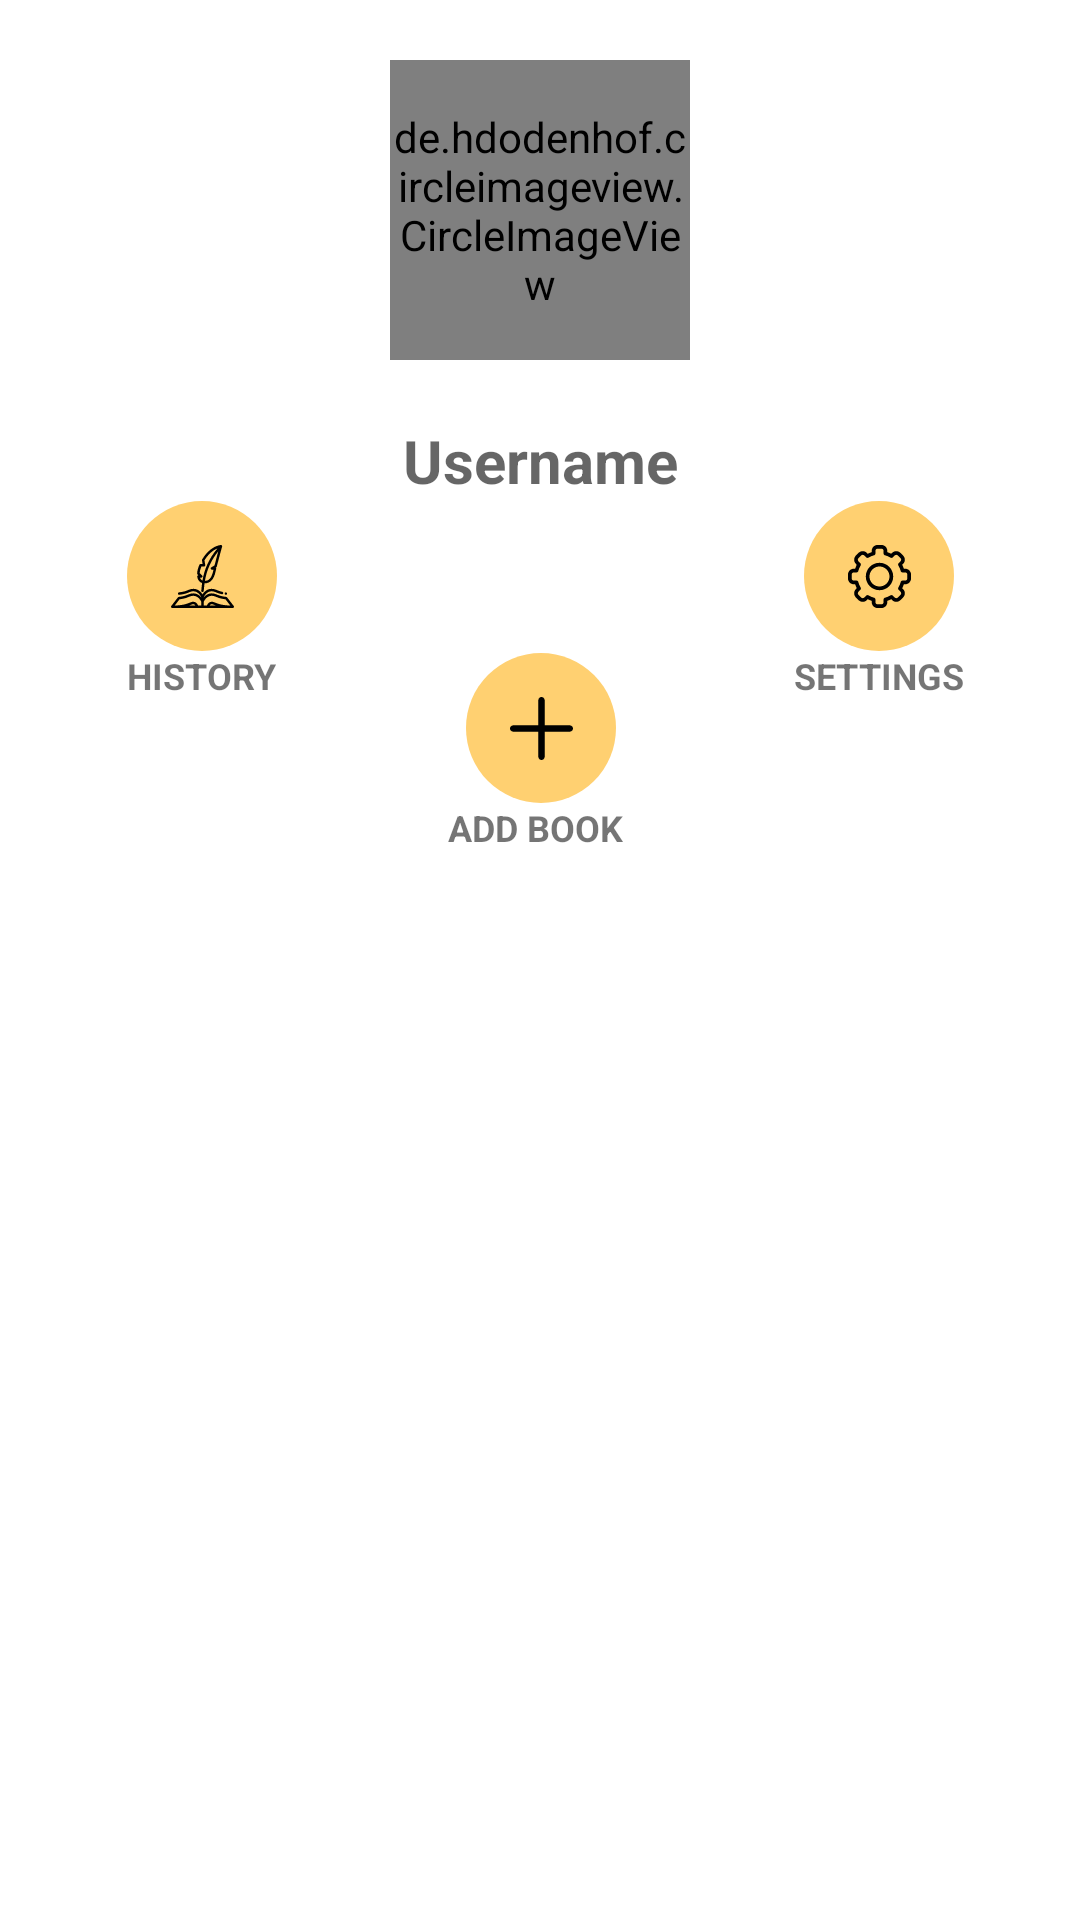

Icon click points for this 1080px x 1920px phone screenshot, format [x,y]:
plus: [541,728]
